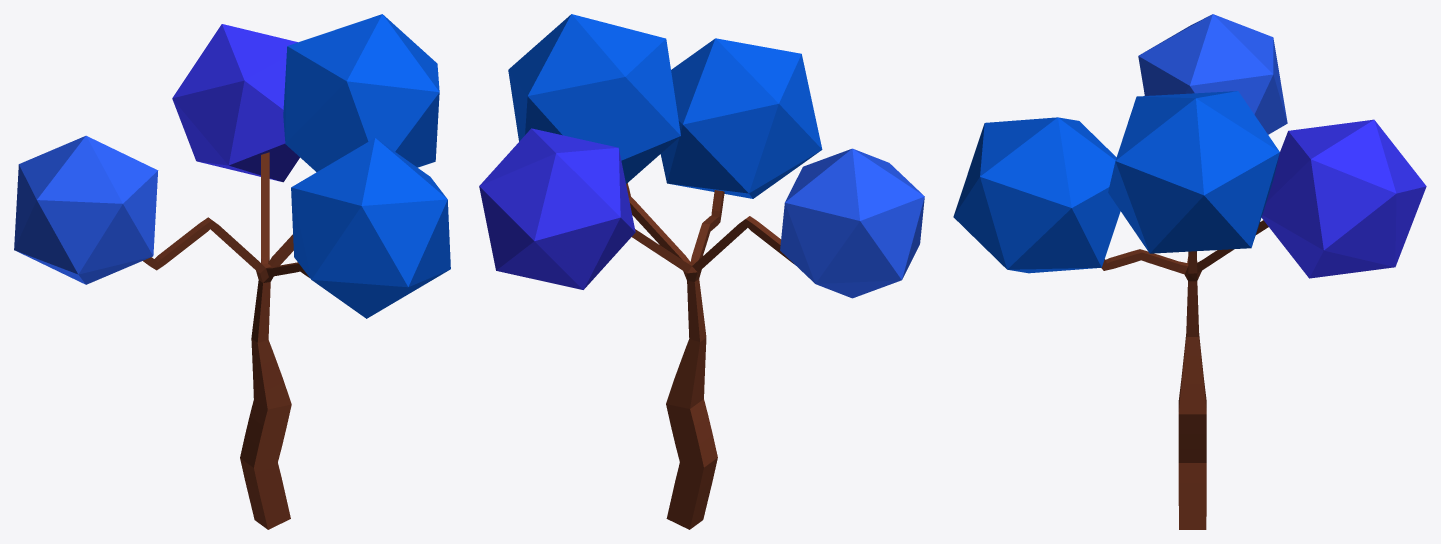
File: Arbusto_Azul.fbx
3 views of the same model, side by side, from view 1: azimuth 30°, elevation 25°; view 2: azimuth 150°, elevation 25°; view 3: azimuth 270°, elevation 25° (orthographic).
Parts seen in each view (by area): view 1: Arbol_P; view 2: Arbol_P; view 3: Arbol_P.
Part boxes in pixels (left/top/right/bottom): Arbol_P: left=14, top=14, right=450, bottom=529; Arbol_P: left=479, top=14, right=924, bottom=529; Arbol_P: left=953, top=14, right=1426, bottom=529.
Bounding box in the file's own units: 868 × 977 × 861.
